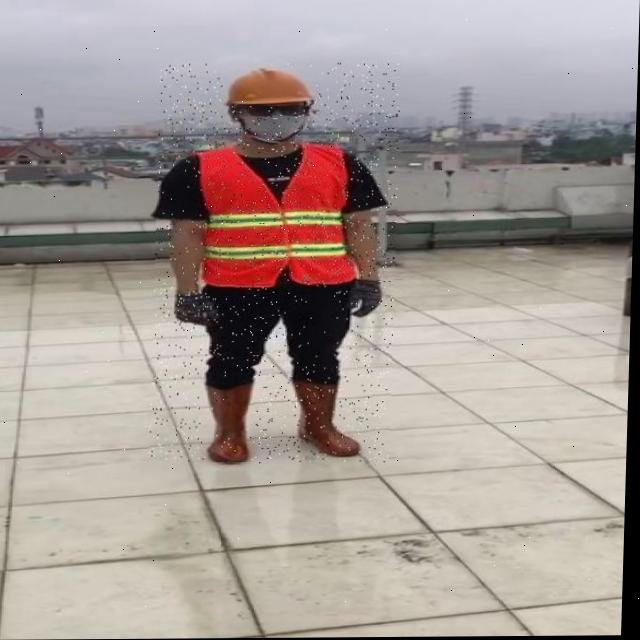Gloves: (175, 290, 222, 328), (350, 280, 383, 317)
Helmet: (226, 68, 314, 107)
Safety-Boot: (293, 378, 365, 457), (205, 379, 254, 464)
Safety-Vest: (190, 141, 361, 290)
